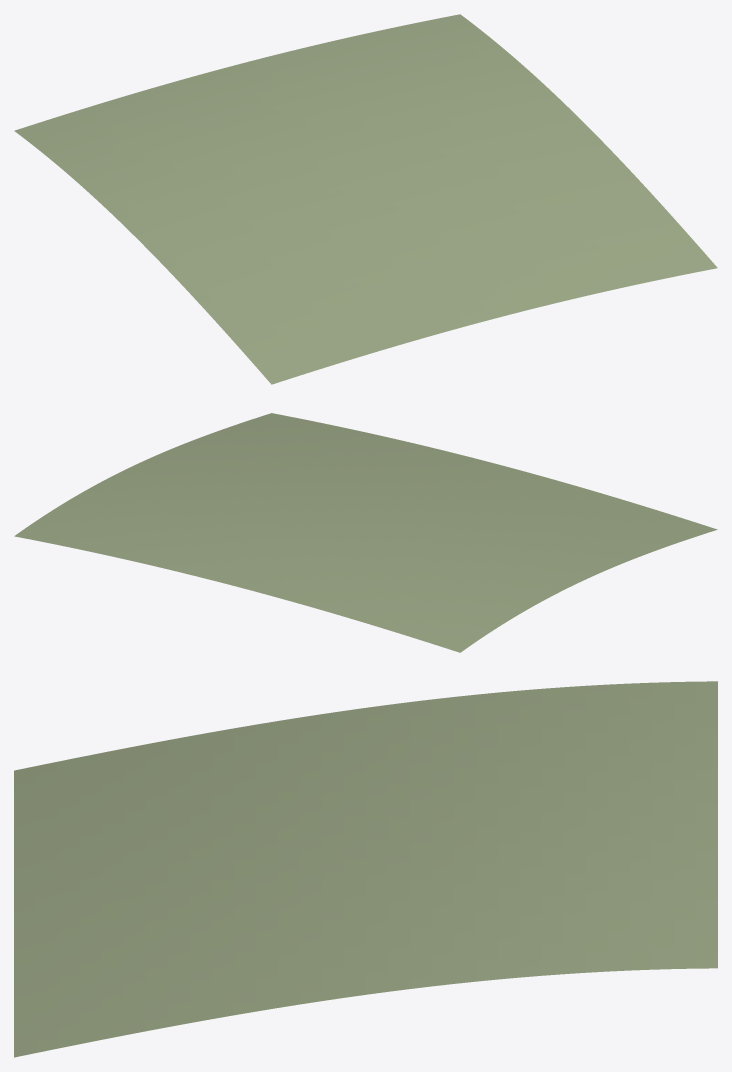
Rendered from valley-6-1.glb.
The picture shows the model from 3 angles, top to bottom: view 1: azimuth 30°, elevation 25°; view 2: azimuth 150°, elevation 25°; view 3: azimuth 270°, elevation 25°; orthographic projection. The views are drawn at different scales.
Parts seen in each view (by area): view 1: valley-6-1; view 2: valley-6-1; view 3: valley-6-1.
Part boxes in pixels (<box>): valley-6-1: <box>14,14,717,384</box>; valley-6-1: <box>14,413,717,652</box>; valley-6-1: <box>14,681,717,1057</box>.
Size of the model in its own units: 256 by 42.49 by 256.
